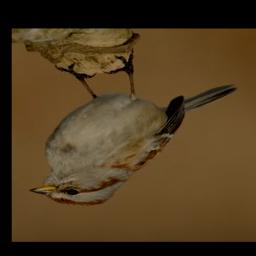Sparrow: (26, 52, 240, 208)
